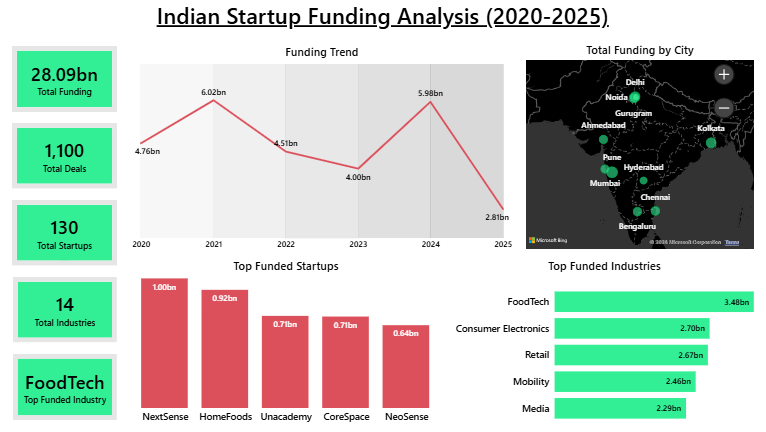

The page's visual inventory and layout, read from the dashboard file:
{"tool":"powerbi","page":{"name":"Executive Overview","canvas":[1280,720],"ordinal":0},"visuals":[{"type":"shape","box":[718,106,123,290],"z":0},{"type":"shape","box":[598,106,121,290],"z":1000},{"type":"shape","box":[476,106,122,290.6],"z":2000},{"type":"shape","box":[235.1,106.3,122,290],"z":3000},{"type":"shape","box":[356.8,106,121,290],"z":4000},{"type":"cardVisual","fields":{"Data":["startup_funding.Total Funding"]},"box":[21.7,76.7,175,110],"z":5000},{"type":"cardVisual","fields":{"Data":["startup_funding.Total Deals"]},"box":[22.3,205.8,175.4,109.2],"z":6000},{"type":"cardVisual","fields":{"Data":["startup_funding.Total Industries"]},"box":[23.1,462.4,173.8,109.2],"z":7000},{"type":"cardVisual","fields":{"Data":["Min(startup_funding.Industry)"]},"box":[23.1,590.8,173.8,110.8],"z":8000},{"type":"cardVisual","fields":{"Data":["startup_funding.Total Startups"]},"box":[22.3,334.1,175.4,109.2],"z":9000},{"type":"lineChart","title":"Funding Trend","fields":{"Category":["startup_funding.Date.Variation.Date Hierarchy.Year"],"Y":["startup_funding.Total Funding"]},"box":[221.9,73.3,633.3,346.7],"z":10000},{"type":"clusteredBarChart","title":"Top Funded Industries","fields":{"Category":["startup_funding.Industry"],"Y":["startup_funding.Total Funding"]},"box":[760,430,498.3,286.7],"z":11000},{"type":"map","fields":{"Category":["startup_funding.City"],"Size":["startup_funding.Total Funding"]},"box":[878.3,70,380,345],"z":12000},{"type":"textbox","box":[212.1,0,855.7,60],"z":13000},{"type":"columnChart","title":"Top Funded Startups","fields":{"Y":["startup_funding.Total Funding"],"Category":["startup_funding.Startup"]},"box":[196.7,430,563.3,280],"z":14000}]}

Visuals, with their boxes in screenshot pixels (x1, y1, x2, y2), scaled from the page's 1280x720 canvas onto the 766x432 screenshot:
shape: {"left": 430, "top": 64, "right": 503, "bottom": 238}
shape: {"left": 358, "top": 64, "right": 430, "bottom": 238}
shape: {"left": 285, "top": 64, "right": 358, "bottom": 238}
shape: {"left": 141, "top": 64, "right": 214, "bottom": 238}
shape: {"left": 214, "top": 64, "right": 286, "bottom": 238}
cardVisual - startup_funding.Total Funding: {"left": 13, "top": 46, "right": 118, "bottom": 112}
cardVisual - startup_funding.Total Deals: {"left": 13, "top": 123, "right": 118, "bottom": 189}
cardVisual - startup_funding.Total Industries: {"left": 14, "top": 277, "right": 118, "bottom": 343}
cardVisual - Min(startup_funding.Industry): {"left": 14, "top": 354, "right": 118, "bottom": 421}
cardVisual - startup_funding.Total Startups: {"left": 13, "top": 200, "right": 118, "bottom": 266}
"Funding Trend" lineChart: {"left": 133, "top": 44, "right": 512, "bottom": 252}
"Top Funded Industries" clusteredBarChart: {"left": 455, "top": 258, "right": 753, "bottom": 430}
map - startup_funding.City x startup_funding.Total Funding: {"left": 526, "top": 42, "right": 753, "bottom": 249}
textbox: {"left": 127, "top": 0, "right": 639, "bottom": 36}
"Top Funded Startups" columnChart: {"left": 118, "top": 258, "right": 455, "bottom": 426}
